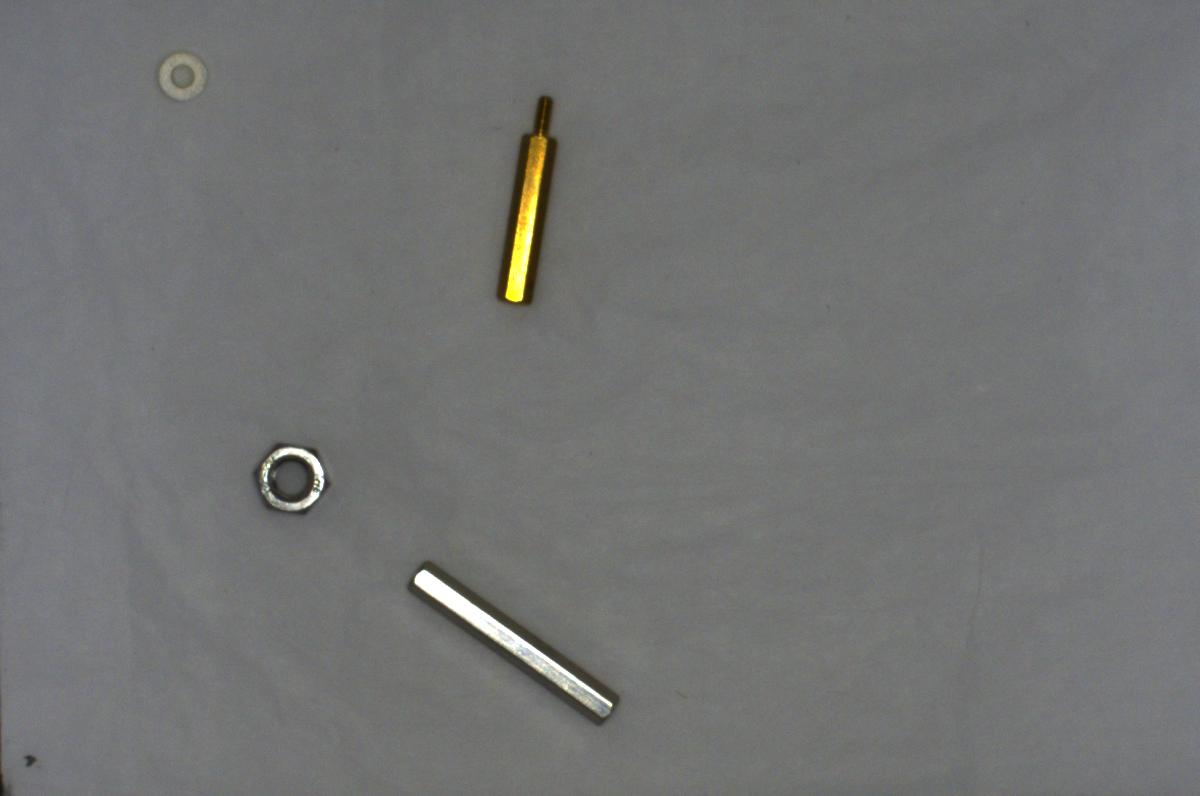Double hexagonal column: (400, 560, 626, 734)
Hexagon nut: (245, 436, 333, 520)
Hexagon pillar: (479, 86, 559, 315)
Plastic cushion pillar: (155, 52, 207, 105)
